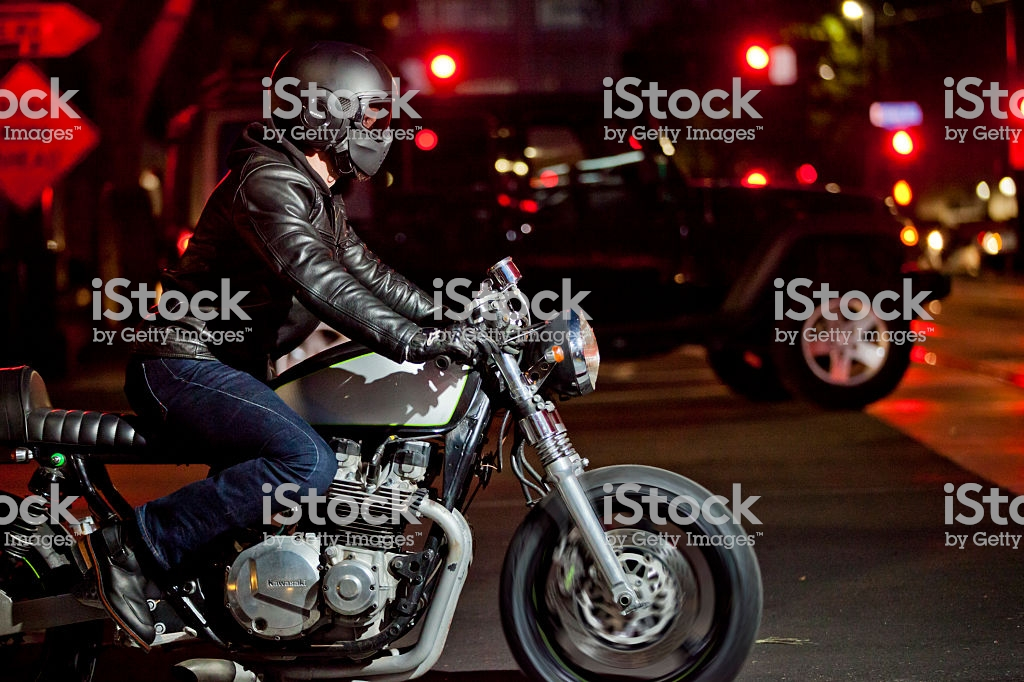helmet: (266, 39, 406, 181)
